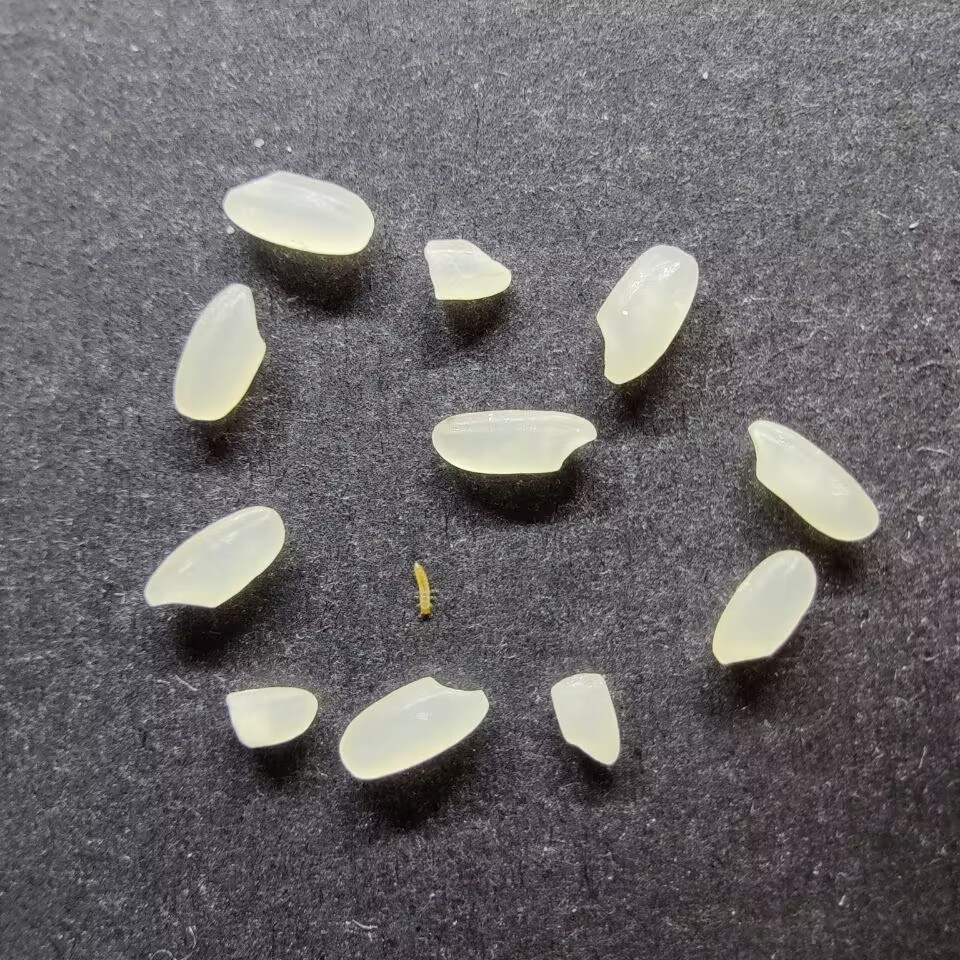broken: (549, 672, 621, 767), (225, 687, 320, 748), (422, 238, 511, 300)
others: (410, 559, 435, 620)
rice: (746, 418, 879, 541), (337, 674, 489, 780), (595, 243, 699, 385), (142, 505, 285, 608), (172, 282, 266, 421), (222, 170, 373, 255), (711, 549, 817, 665), (431, 409, 597, 475)
